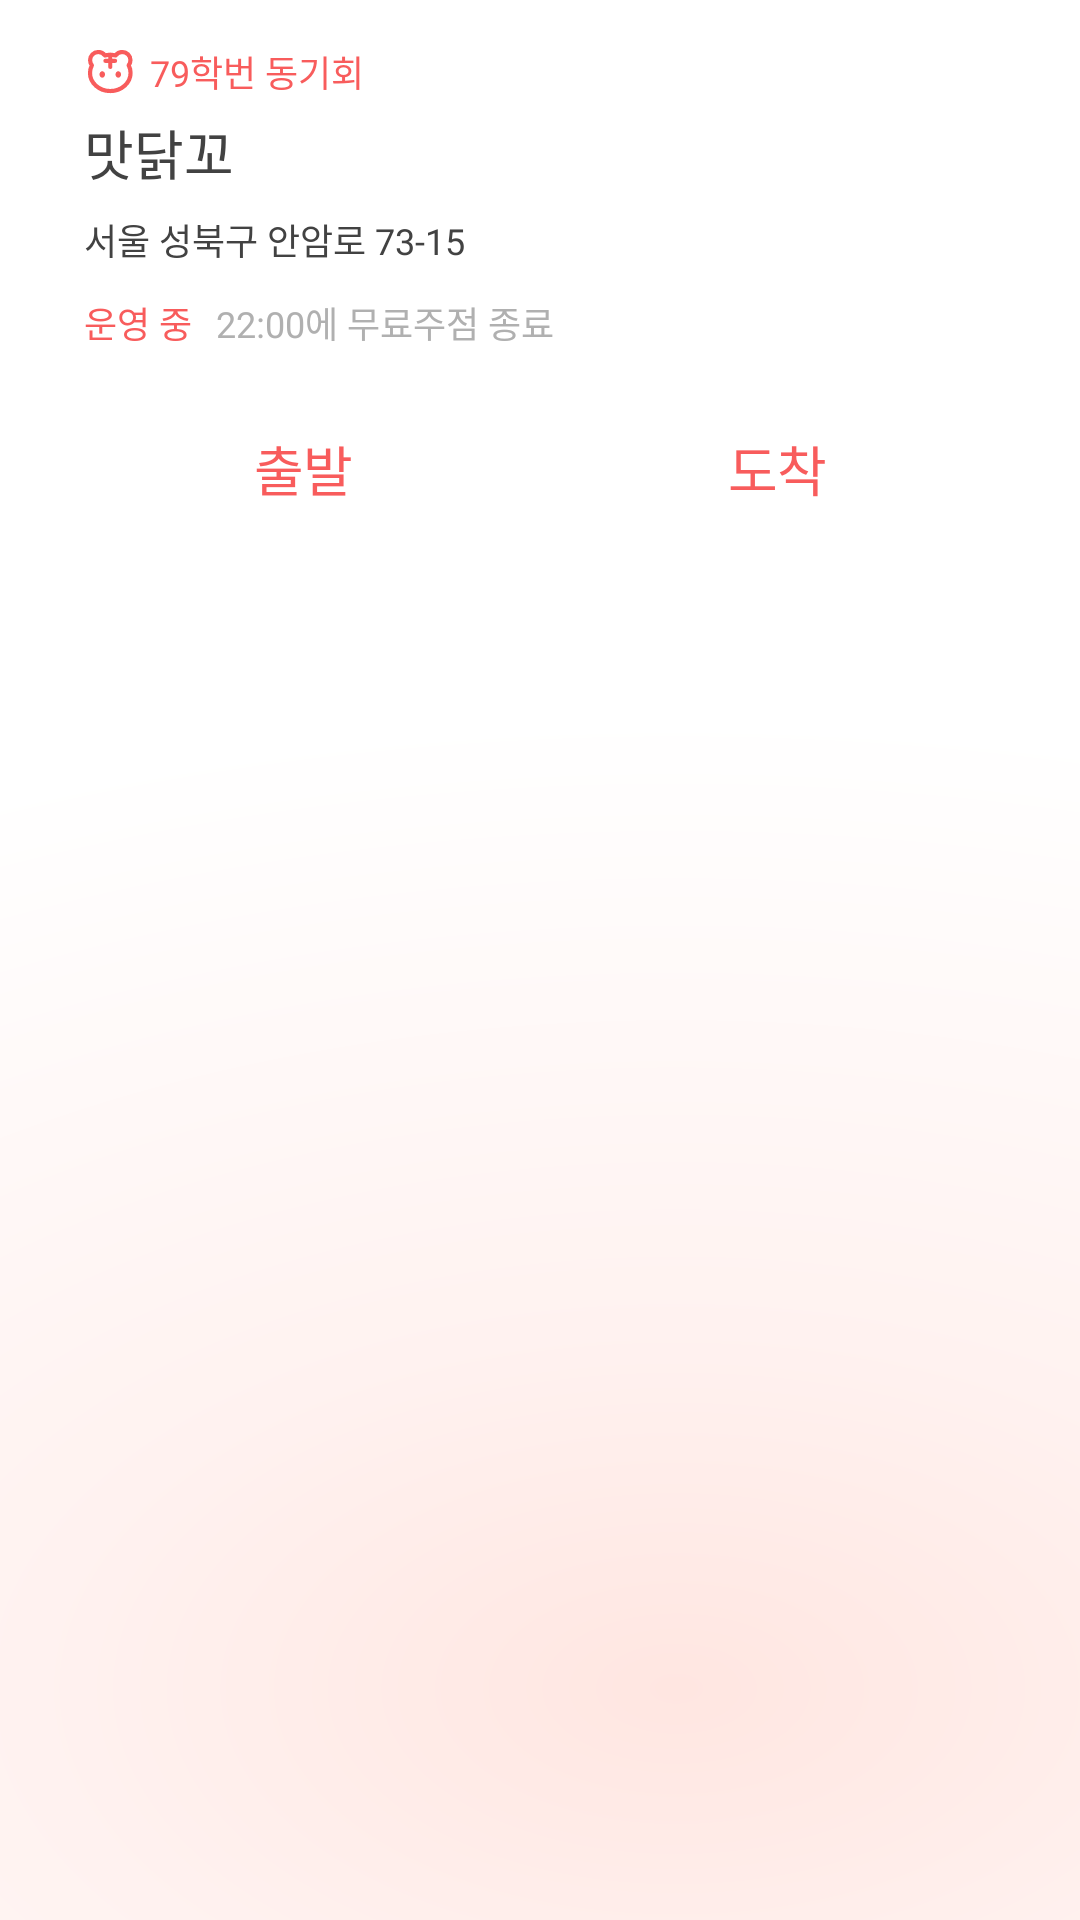

Named icons in this screenshot (1080 × 1920) and their centers, point (x, y):
tiger: point (110, 71)
